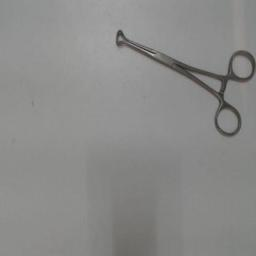Babcock Tissue Forceps: (113, 26, 255, 140)
